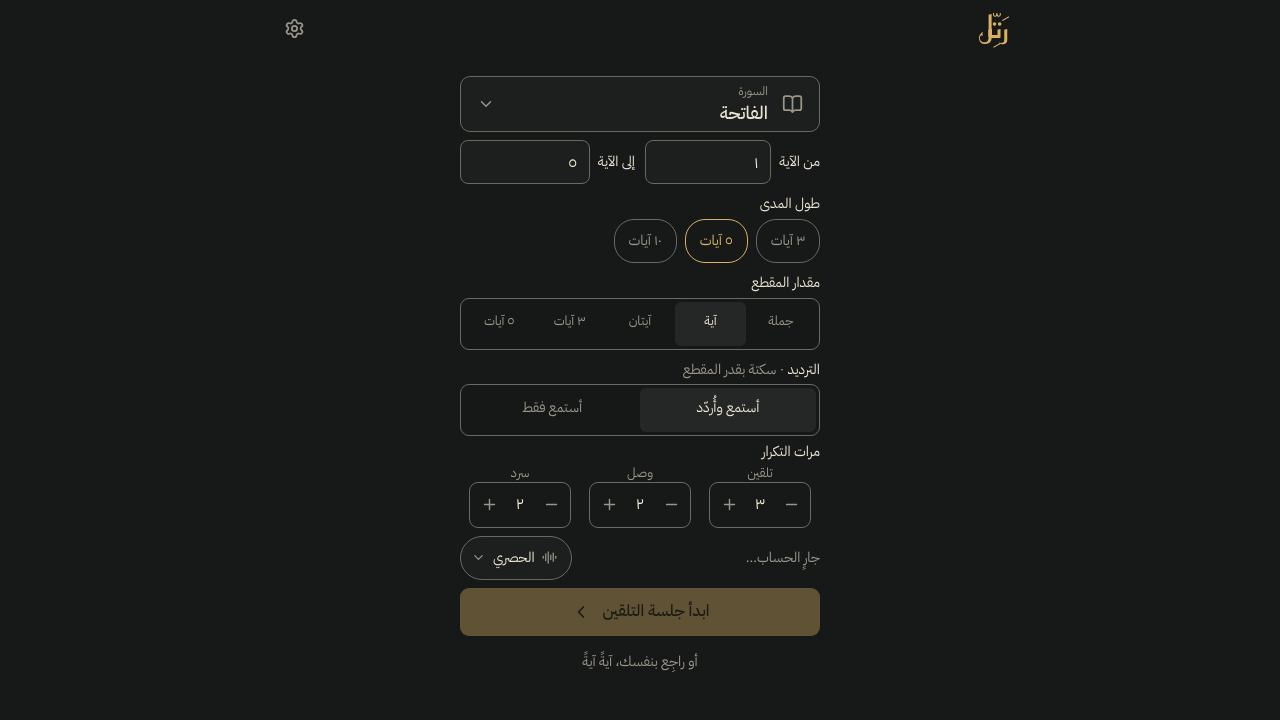
Scenario: settings and surah picker › applies and persists a theme through the settings sheet
Click the button named "الإعدادات". click: coordinates (294, 28)
box: [272,6,316,50]
(page scrolled)
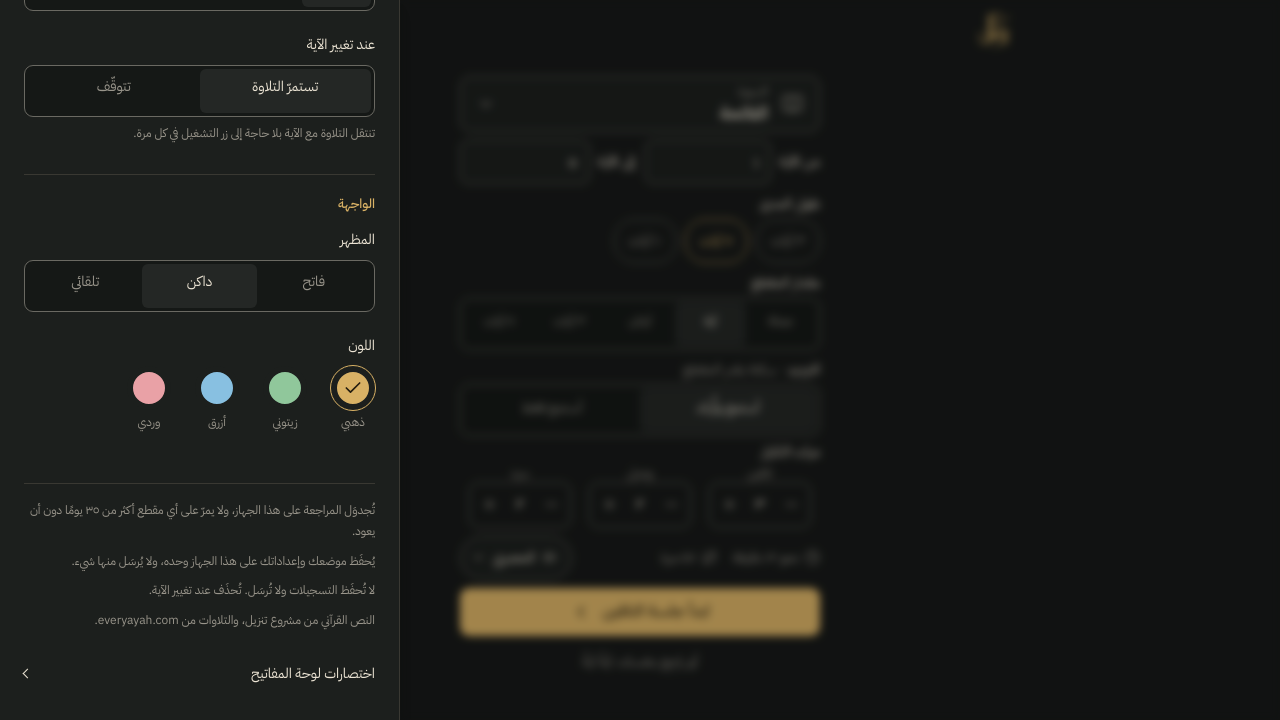
Click the radio button labelled "زيتوني". click: coordinates (285, 398)
box: [263,366,307,431]
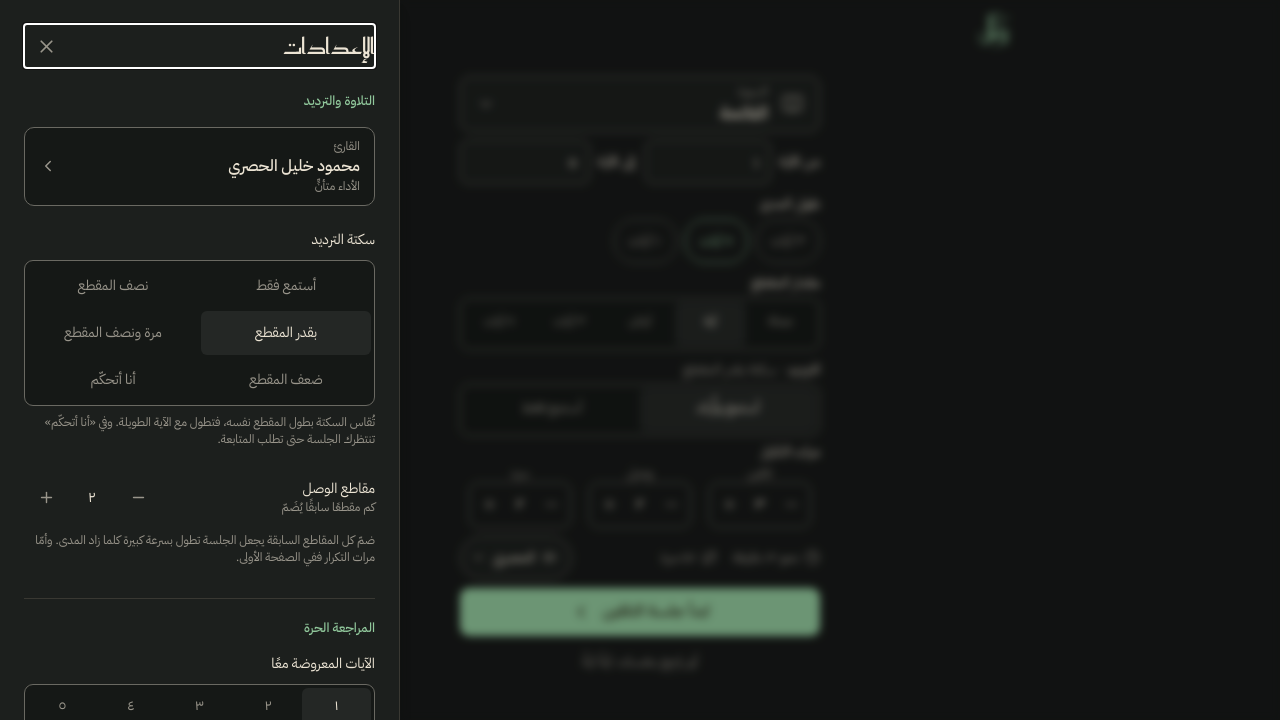
Click the button named "إغلاق". click: coordinates (46, 46)
box: [24,24,68,68]
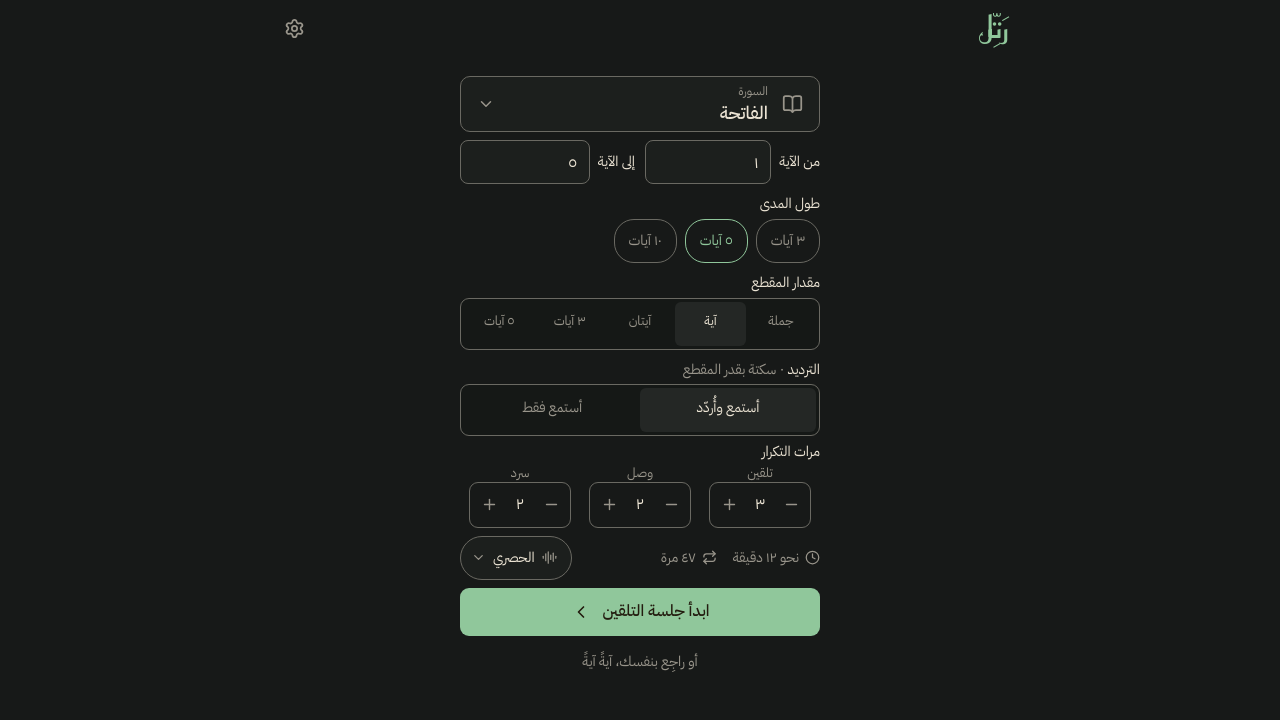
Now the dialog is gone
